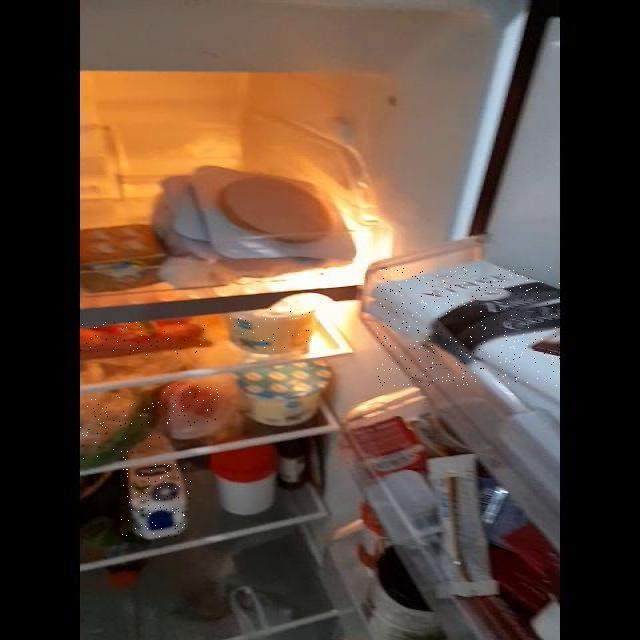carrot: (80, 322, 209, 355)
chocolate: (377, 267, 560, 386)
green chilies: (80, 396, 160, 460)
milk: (120, 464, 191, 537)
tomato: (162, 386, 222, 426)
yoghurt: (225, 309, 315, 353)
